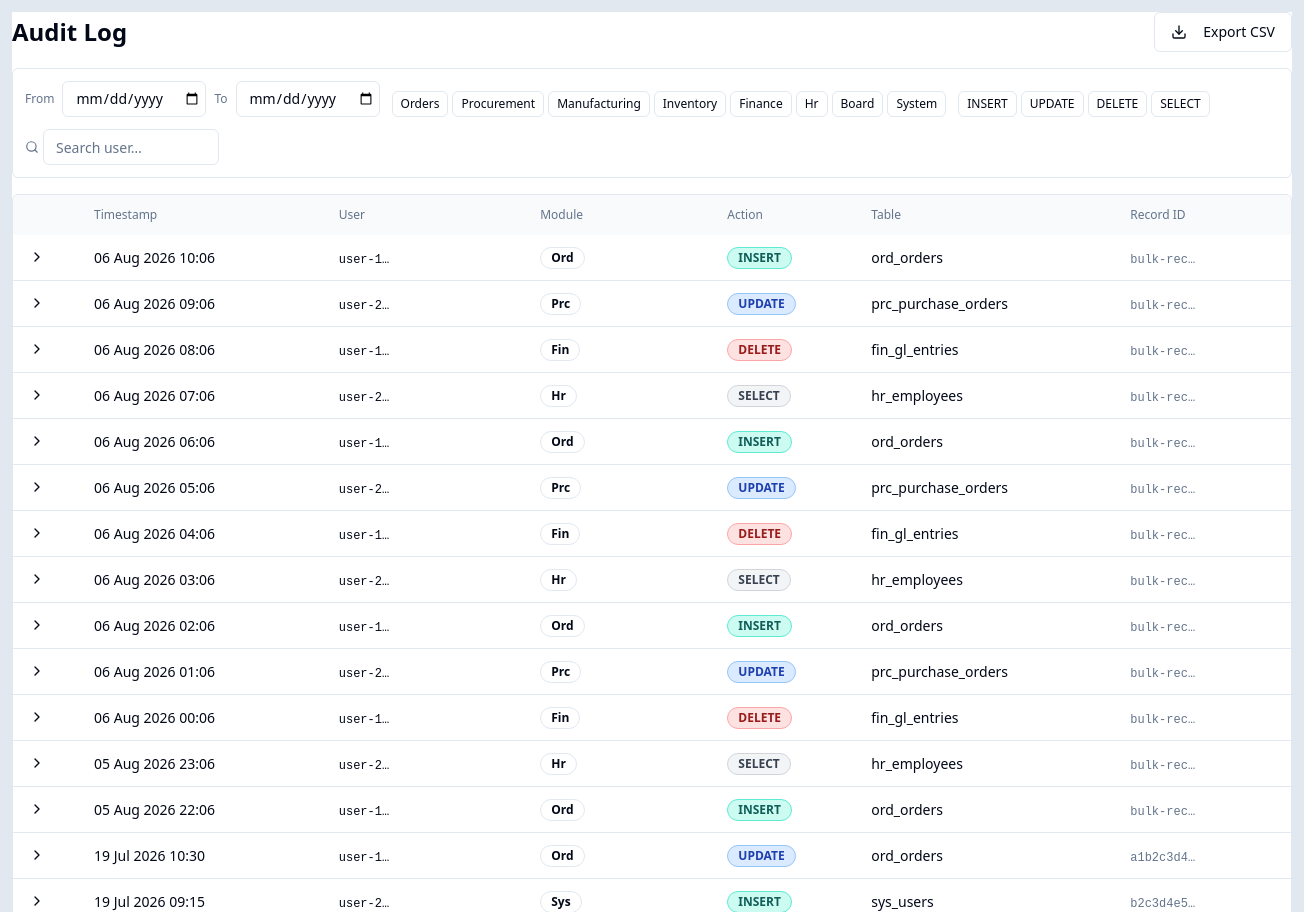
Test: AuditLogPage › shows old and new values in diff for UPDATE
This screenshot has width=1304, height=912.
Note: Expand the UPDATE row (audit-1)
Click the row with test id "audit-row-audit-1" at {"x": 652, "y": 856}, box [13,832,1291,878]
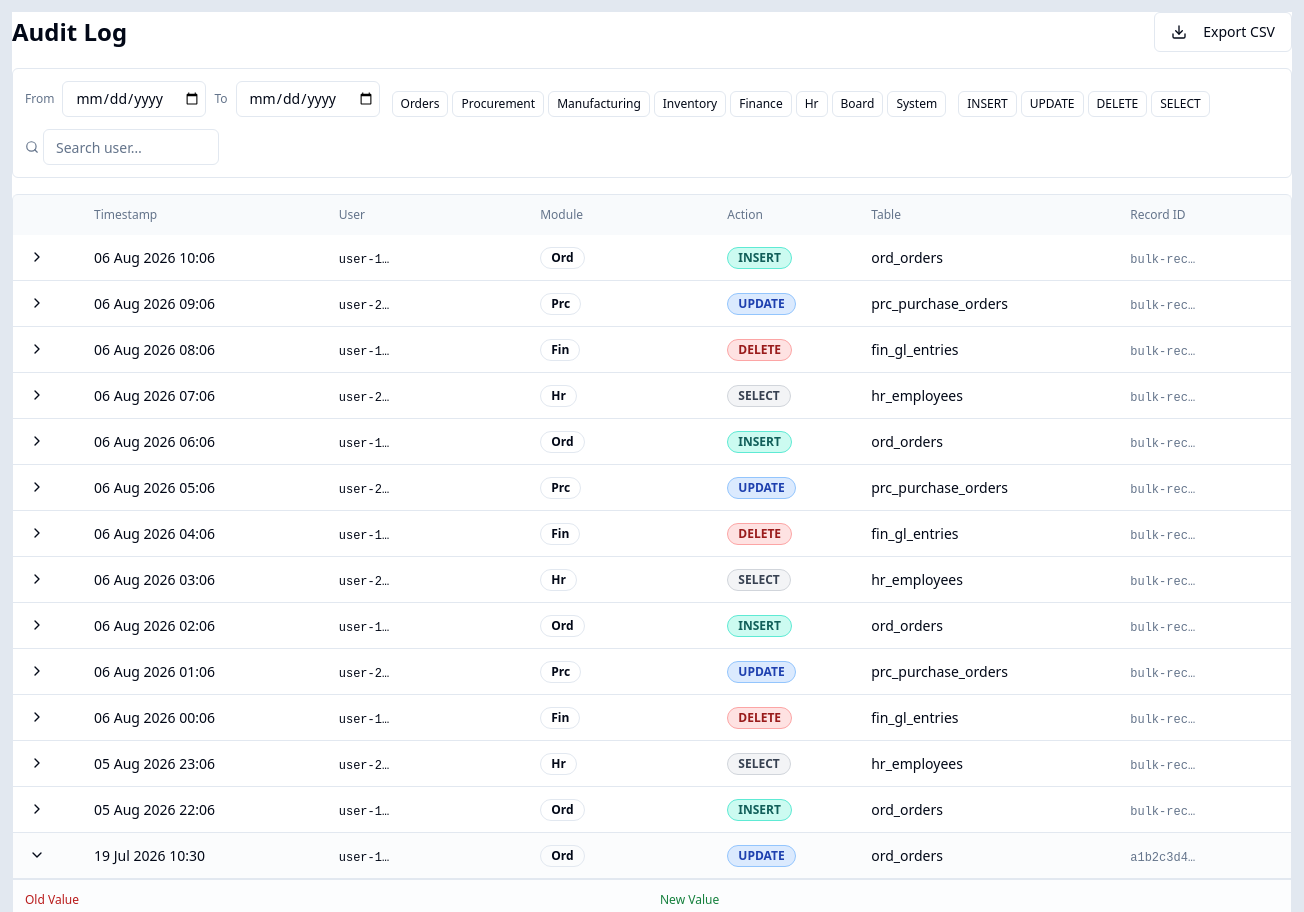
expect the text "Old Value" is shown: met, box [25,891,79,908]
expect the text "New Value" is shown: met, box [660,891,719,908]
